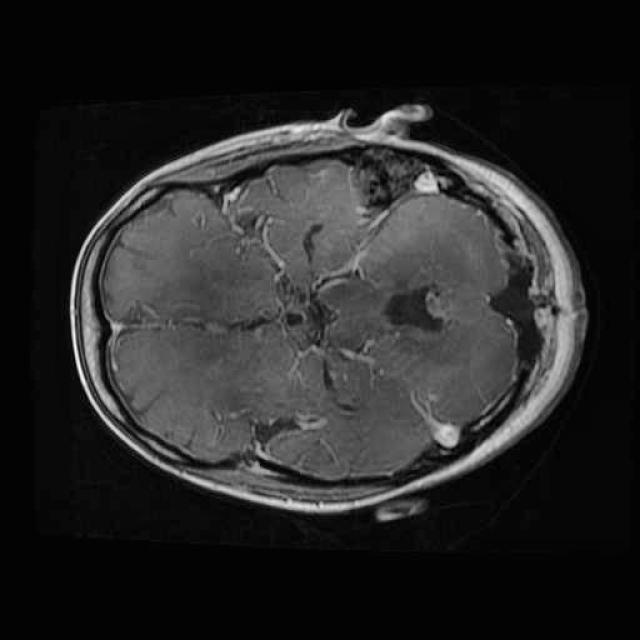Tumor: (376, 274, 454, 341)
